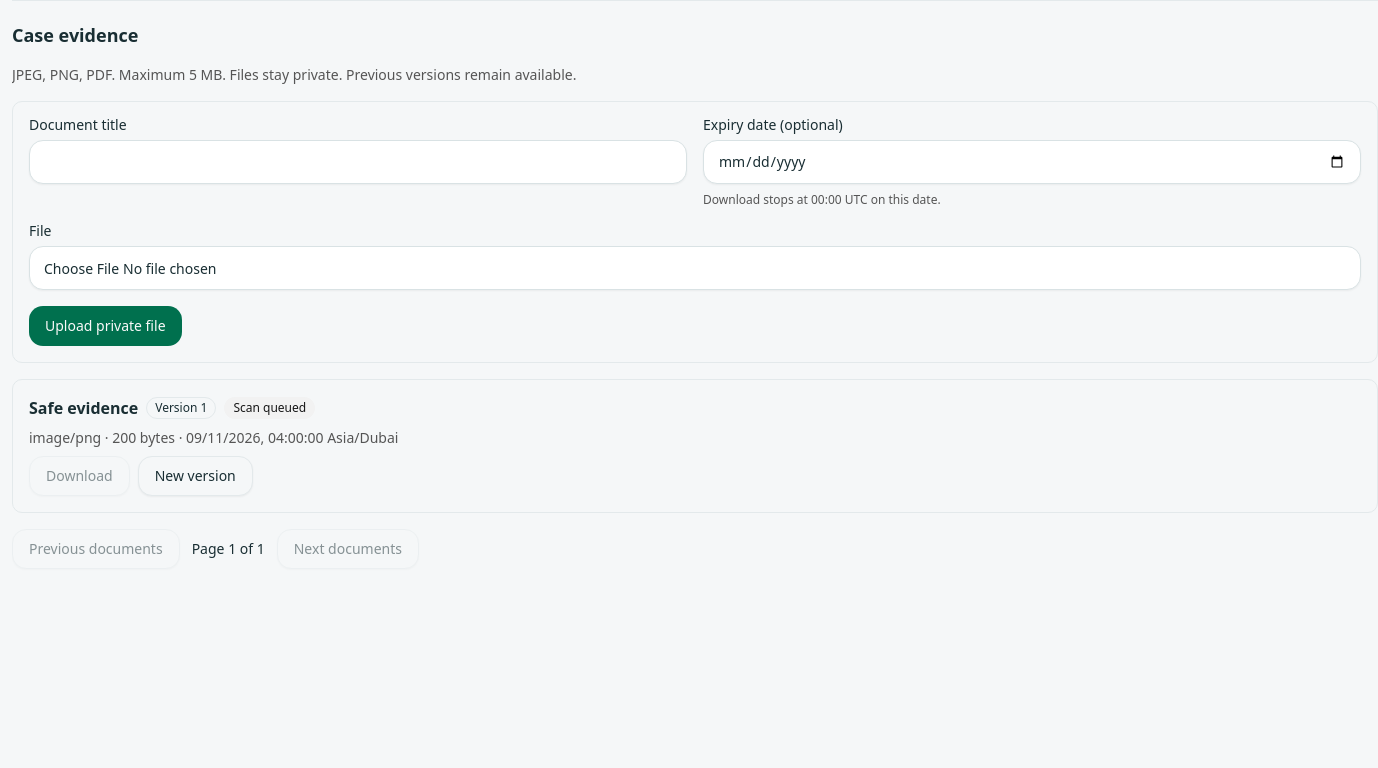
Test: private document forms and scan status › disables unavailable downloads and preserves explicit new-version actions
expect the text "Safe evidence" is shown: met, box 29,396 -> 138,420
expect the button "Download" is disabled: met, box 29,456 -> 130,496
Click the button "New version" at point(195, 476), box 138,456 -> 253,496
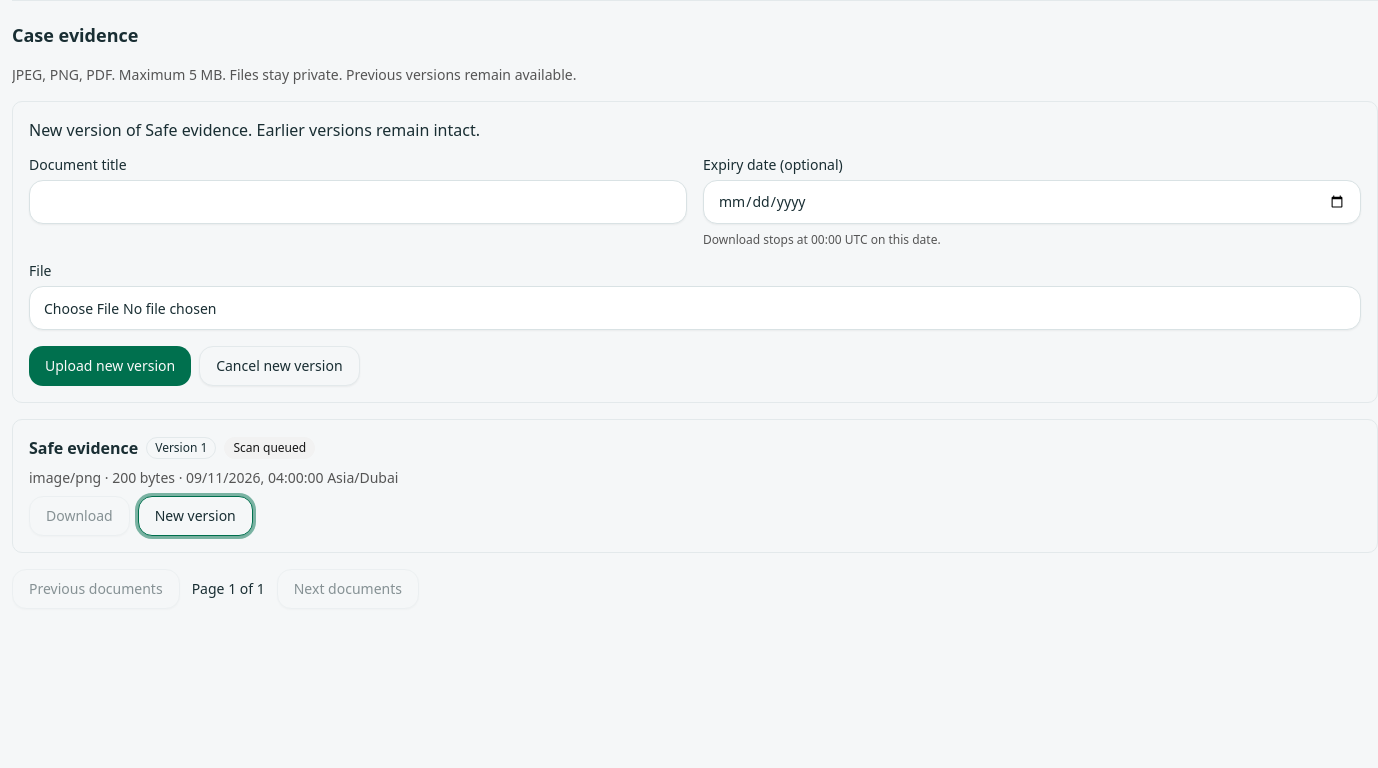
expect the text "New version of Safe evidence. Earlier versions remain intact." is shown: met, box 29,119 -> 480,141
expect the button "Upload new version" is shown: met, box 29,346 -> 191,386
